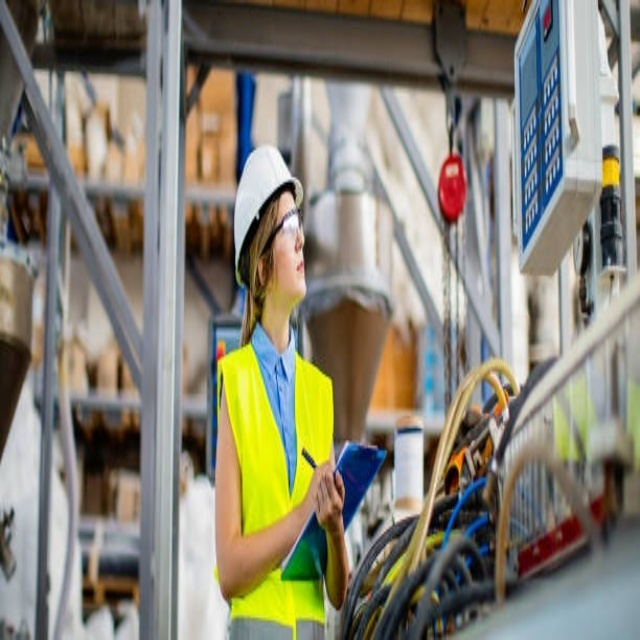Gafas: (263, 206, 303, 256)
Sin_guantes: (312, 462, 345, 529)
Sin_mascara: (280, 244, 308, 295)
